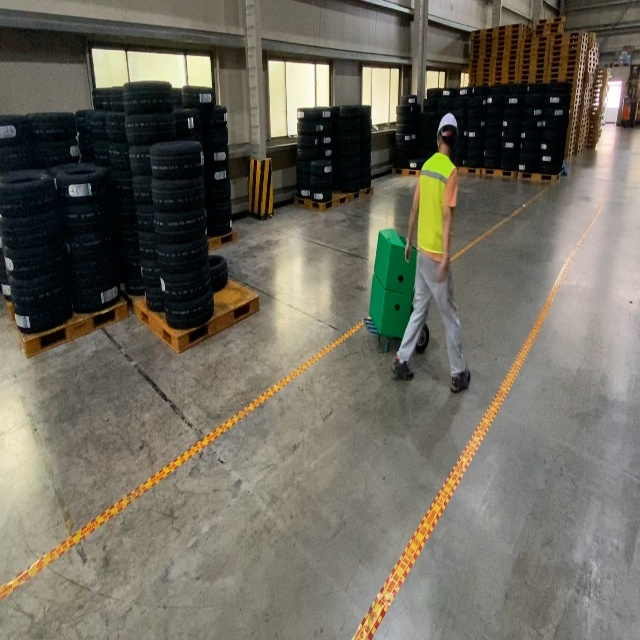Box: (373, 229, 418, 296), (369, 273, 412, 338)
Worker: (390, 112, 471, 392)
